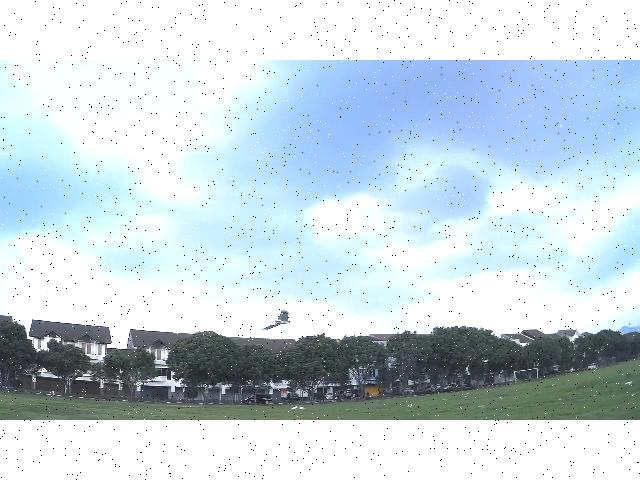Anti-Drone: (260, 310, 290, 330)
